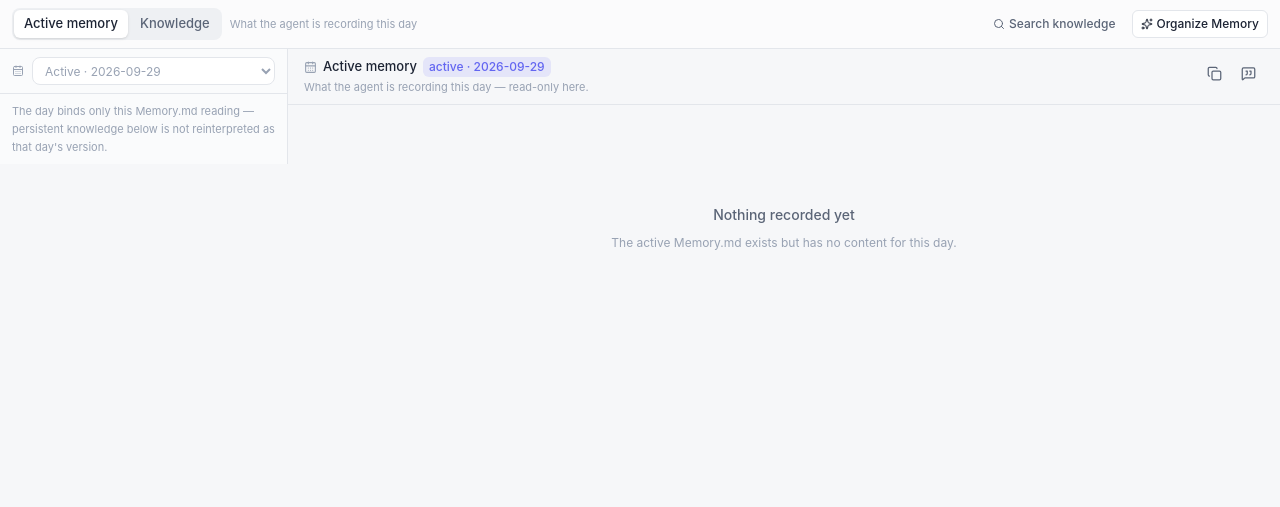
Test: MemoryPage knowledge catalog › offers conversation or organize when the knowledge base is empty
Click the button "Knowledge": (175, 24) x1=130 y1=10 x2=220 y2=38
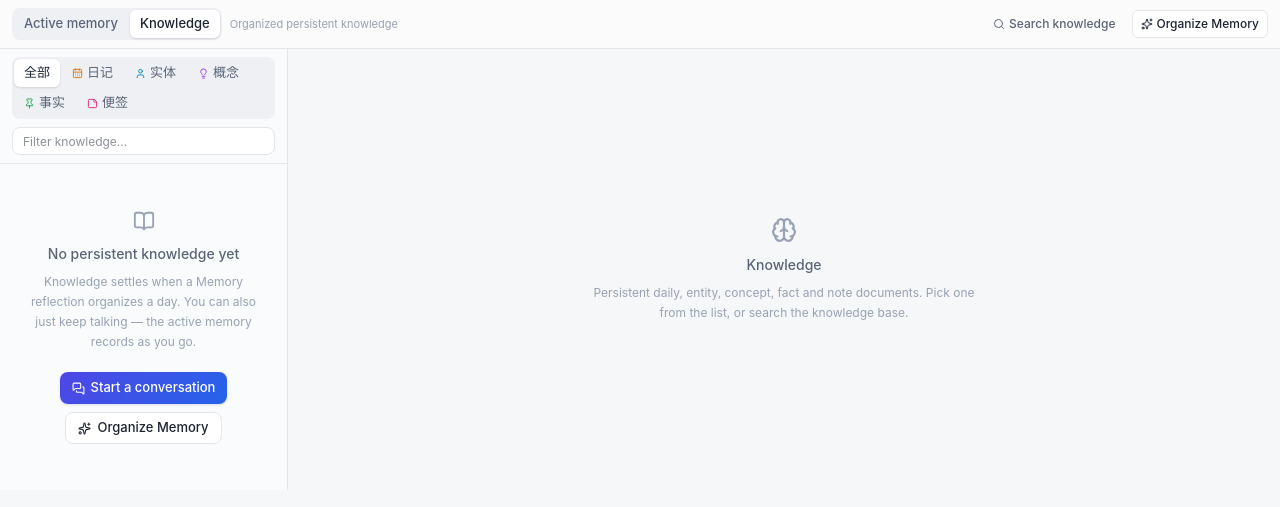
Expected: the text "No persistent knowledge yet" is shown, x1=48 y1=244 x2=239 y2=264
